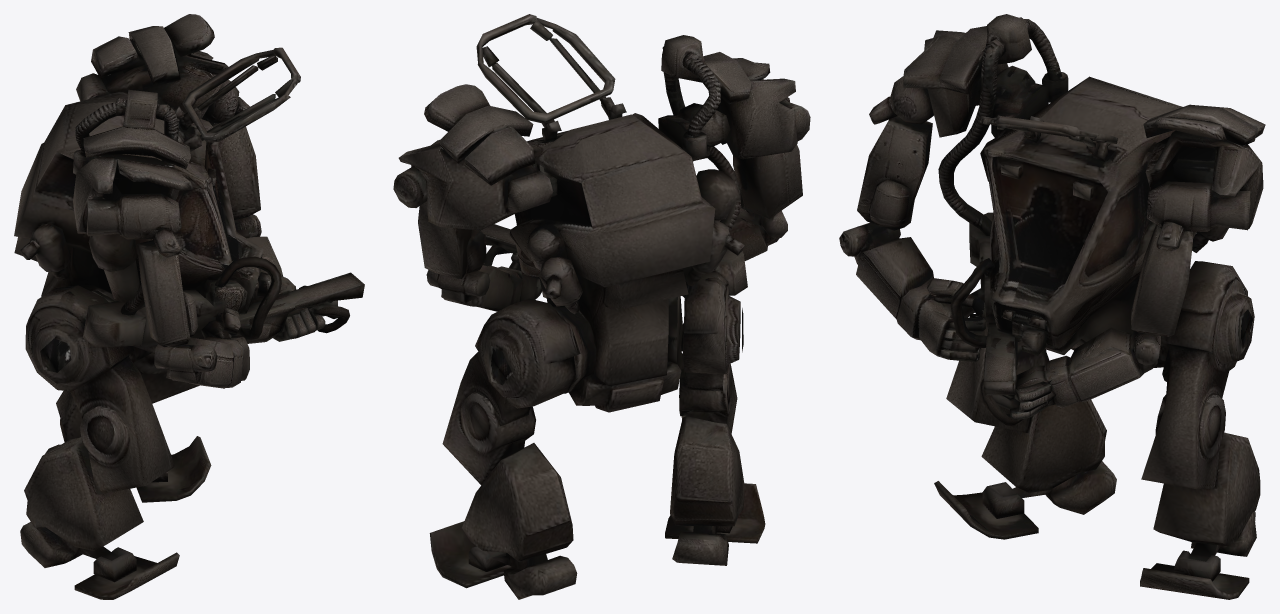
The model's file is avatar.glb.
3 renders of one model, left to right at view 1: azimuth 30°, elevation 25°; view 2: azimuth 150°, elevation 25°; view 3: azimuth 270°, elevation 25°, orthographic. The views are drawn at different scales.
Parts seen in each view (by area): view 1: tripo_node_a7b64646-1902-4593-8e9e-86cb7507f91d; view 2: tripo_node_a7b64646-1902-4593-8e9e-86cb7507f91d; view 3: tripo_node_a7b64646-1902-4593-8e9e-86cb7507f91d.
Boxes of the visible parts, x1,y1,x2,y2 form: tripo_node_a7b64646-1902-4593-8e9e-86cb7507f91d: [14, 14, 364, 599]; tripo_node_a7b64646-1902-4593-8e9e-86cb7507f91d: [393, 14, 810, 599]; tripo_node_a7b64646-1902-4593-8e9e-86cb7507f91d: [839, 14, 1265, 599].
Size of the model in its own units: 0.6621 by 0.998 by 0.7559.
Materials: 1 (1 with a texture image).
